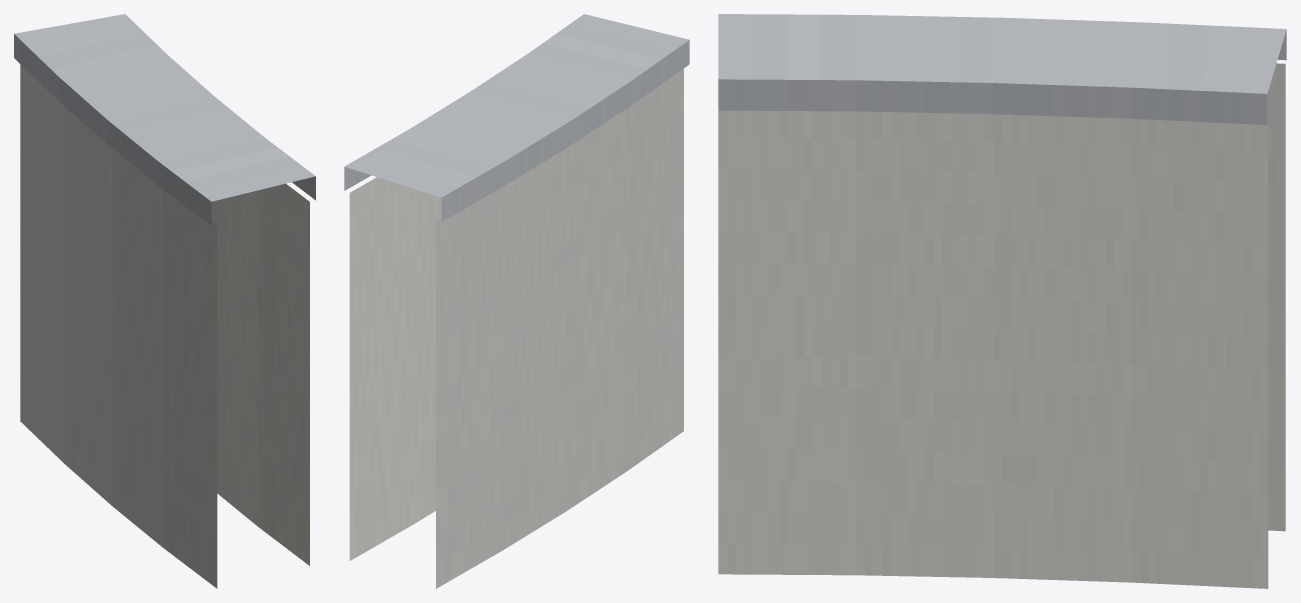
Rendered from curve_board_00.obj.
The picture shows the model from 3 angles, left to right: view 1: azimuth 30°, elevation 25°; view 2: azimuth 150°, elevation 25°; view 3: azimuth 270°, elevation 25°; orthographic projection. The views are drawn at different scales.
Visible parts, largest first — view 1: curve_board_00; view 2: curve_board_00; view 3: curve_board_00.
Part boxes in pixels (x1,y1,x2,y2): curve_board_00: (14, 14, 315, 588); curve_board_00: (344, 14, 689, 588); curve_board_00: (718, 14, 1286, 588).
Size of the model in its own units: 0.3439 by 1 by 1.03.
